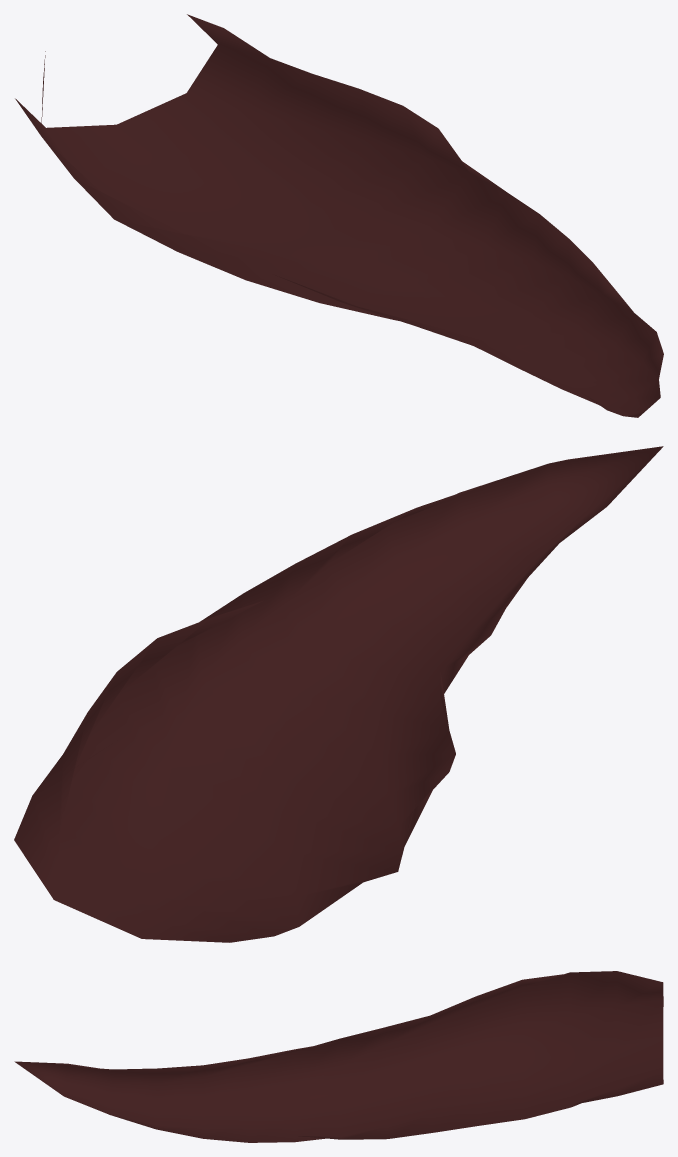
File: flame_tongue_ink.glb
The picture shows the model from 3 angles, top to bottom: view 1: azimuth 30°, elevation 25°; view 2: azimuth 150°, elevation 25°; view 3: azimuth 270°, elevation 25°; orthographic projection. The views are drawn at different scales.
Visible parts, largest first — view 1: flame_tongue_ink; view 2: flame_tongue_ink; view 3: flame_tongue_ink.
Boxes of the visible parts, x1,y1,x2,y2 form: flame_tongue_ink: (15, 14, 663, 417); flame_tongue_ink: (14, 446, 663, 942); flame_tongue_ink: (14, 971, 663, 1142).
Bounding box in the file's own units: 0.7907 × 0.3802 × 2.03.
